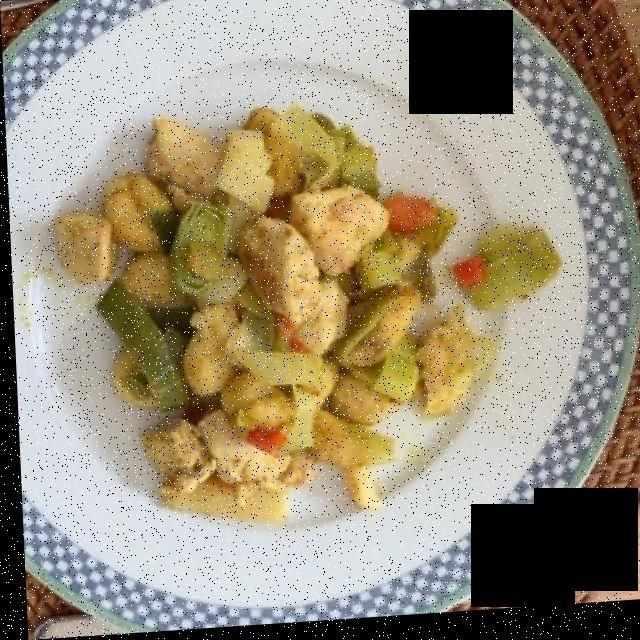chicken: (57, 94, 460, 506)
mixed-vegetables: (84, 145, 553, 452)
